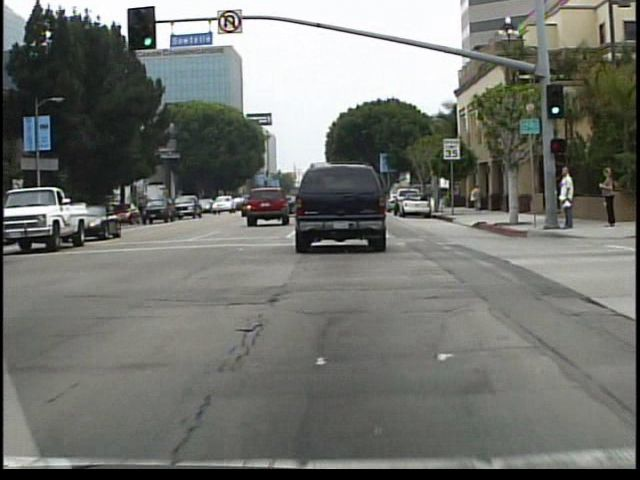person: (552, 161, 574, 237), (599, 162, 619, 228), (469, 181, 486, 217), (426, 185, 439, 215)
